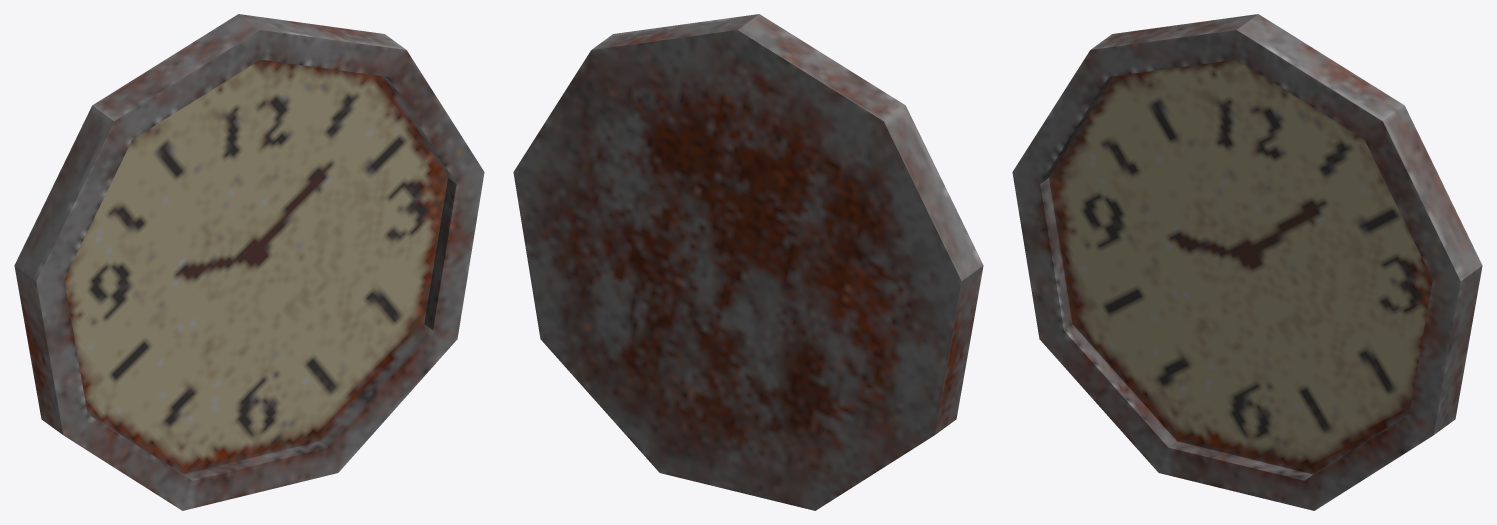
The model's file is clock.fbx.
3 views of the same model, side by side, from view 1: azimuth 30°, elevation 25°; view 2: azimuth 150°, elevation 25°; view 3: azimuth 330°, elevation 25° (orthographic).
Parts seen in each view (by area): view 1: clock; view 2: clock; view 3: clock.
Part boxes in pixels (x1=…): clock: x1=14, y1=14, x2=484, y2=510; clock: x1=513, y1=14, x2=983, y2=510; clock: x1=1012, y1=14, x2=1482, y2=510.
Bounding box in the file's own units: 23.64 × 23.28 × 2.
Materials: 1 (1 with a texture image).
